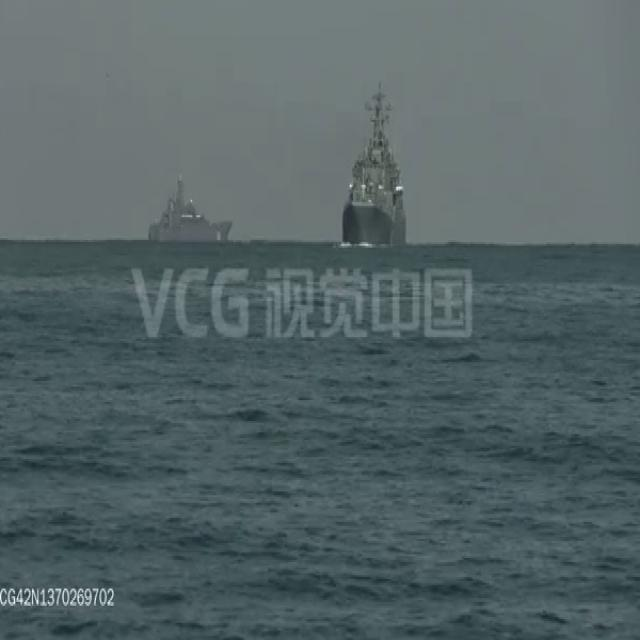navalvessels: (343, 83, 408, 243), (148, 173, 232, 246)
